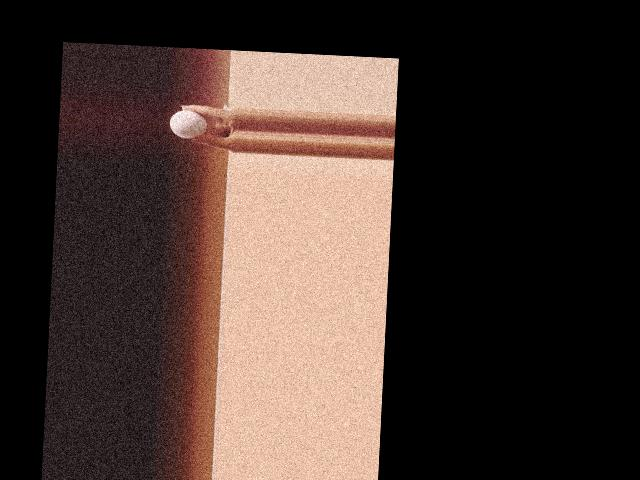egg: (169, 109, 208, 139)
